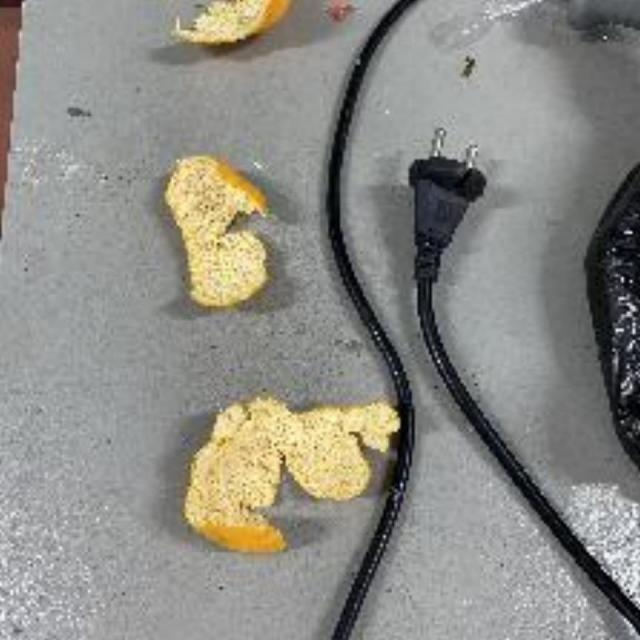orange peel: (184, 394, 412, 564), (164, 153, 272, 315), (154, 2, 306, 44)
